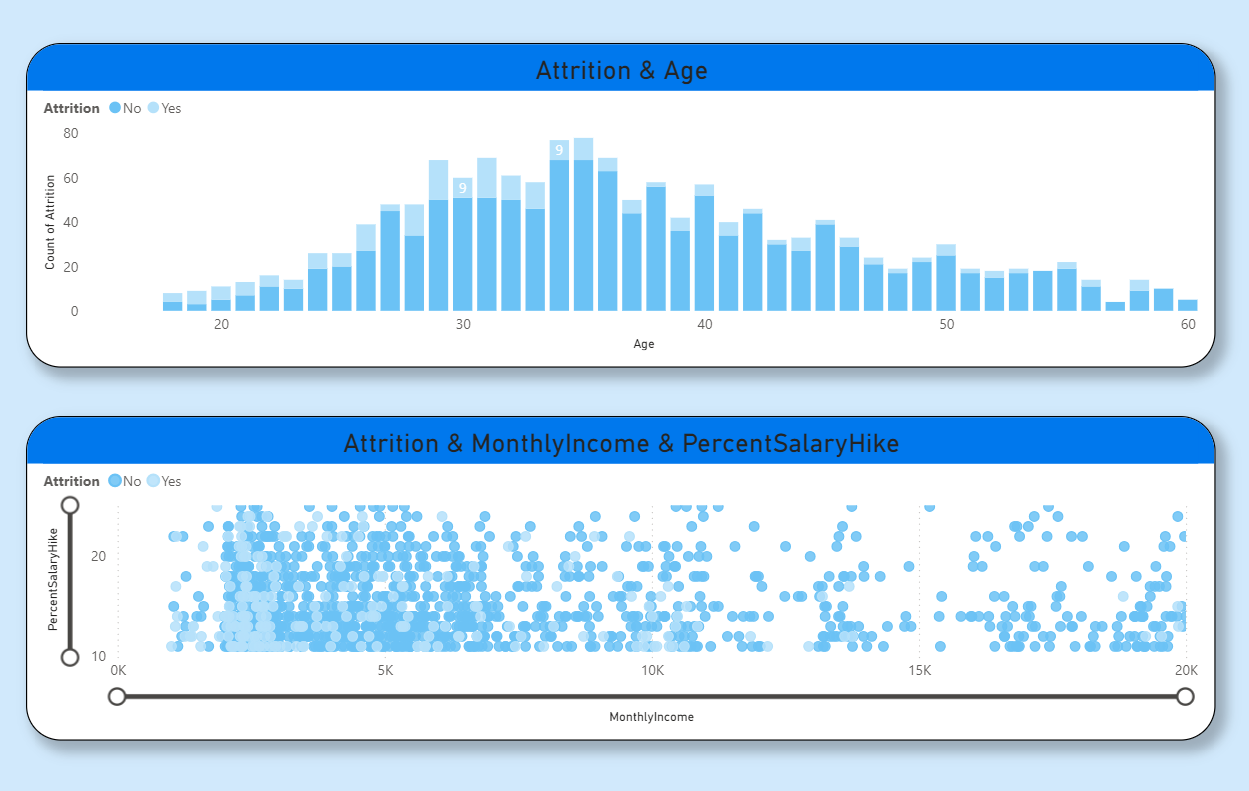

The page's visual inventory and layout, read from the dashboard file:
{"tool":"powerbi","page":{"name":"Page 3","canvas":[1280,720],"ordinal":2},"visuals":[{"type":"columnChart","title":"Attrition & Age","fields":{"Category":["HR-Employee-Attrition.Age"],"Series":["HR-Employee-Attrition.Attrition"],"Y":["CountNonNull(HR-Employee-Attrition.Attrition)"]},"box":[118,52,1026,280],"z":0},{"type":"scatterChart","title":"Attrition & MonthlyIncome & PercentSalaryHike","fields":{"Series":["HR-Employee-Attrition.Attrition"],"X":["HR-Employee-Attrition.MonthlyIncome"],"Y":["HR-Employee-Attrition.PercentSalaryHike"]},"box":[118.2,373.5,1025.6,280.3],"z":1000}]}

Visuals, with their boxes on the page's 1280x720 design canvas (x1, y1, x2, y2). These are canvas units, not pixel positions in the 1249x791 screenshot, which may show the page scaled, cropped or inside an application window:
"Attrition & Age" columnChart: rect(118, 52, 1144, 332)
"Attrition & MonthlyIncome & PercentSalaryHike" scatterChart: rect(118, 374, 1144, 654)
